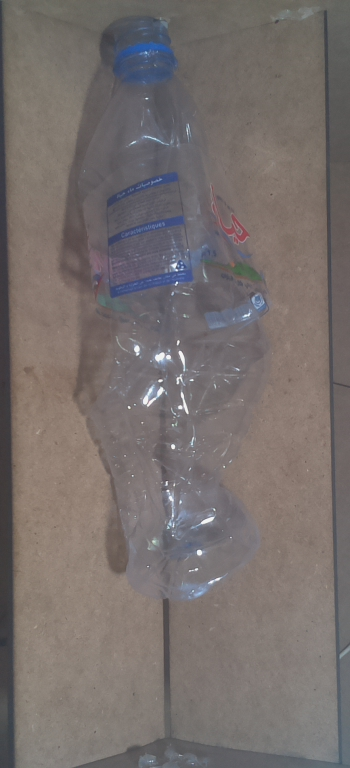Bouteille_1.5L: (70, 9, 291, 616)
